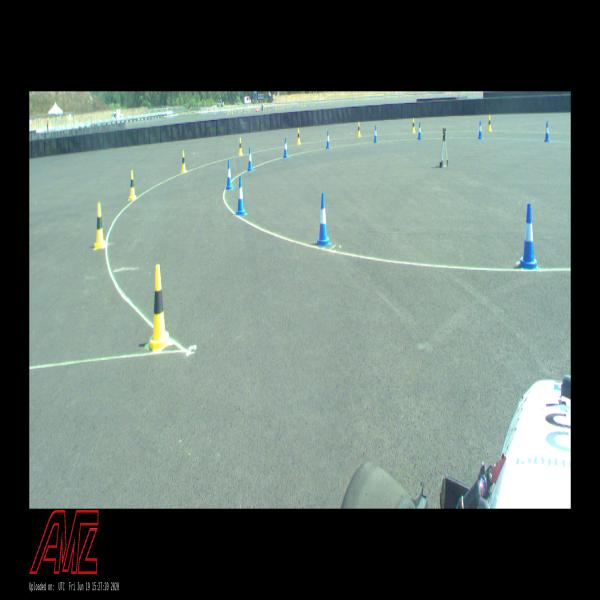blue_cone: (519, 203, 539, 269), (316, 192, 331, 246), (236, 176, 246, 214), (226, 159, 233, 190), (247, 148, 254, 171), (544, 121, 550, 142), (478, 121, 483, 139), (326, 131, 331, 149), (373, 126, 378, 143), (284, 138, 288, 157), (418, 123, 422, 140)
yellow_cone: (147, 266, 170, 352), (94, 203, 106, 248), (128, 171, 137, 200), (181, 150, 187, 172), (238, 137, 243, 156), (487, 115, 492, 132), (297, 129, 301, 144), (357, 123, 361, 136), (412, 119, 416, 132)
